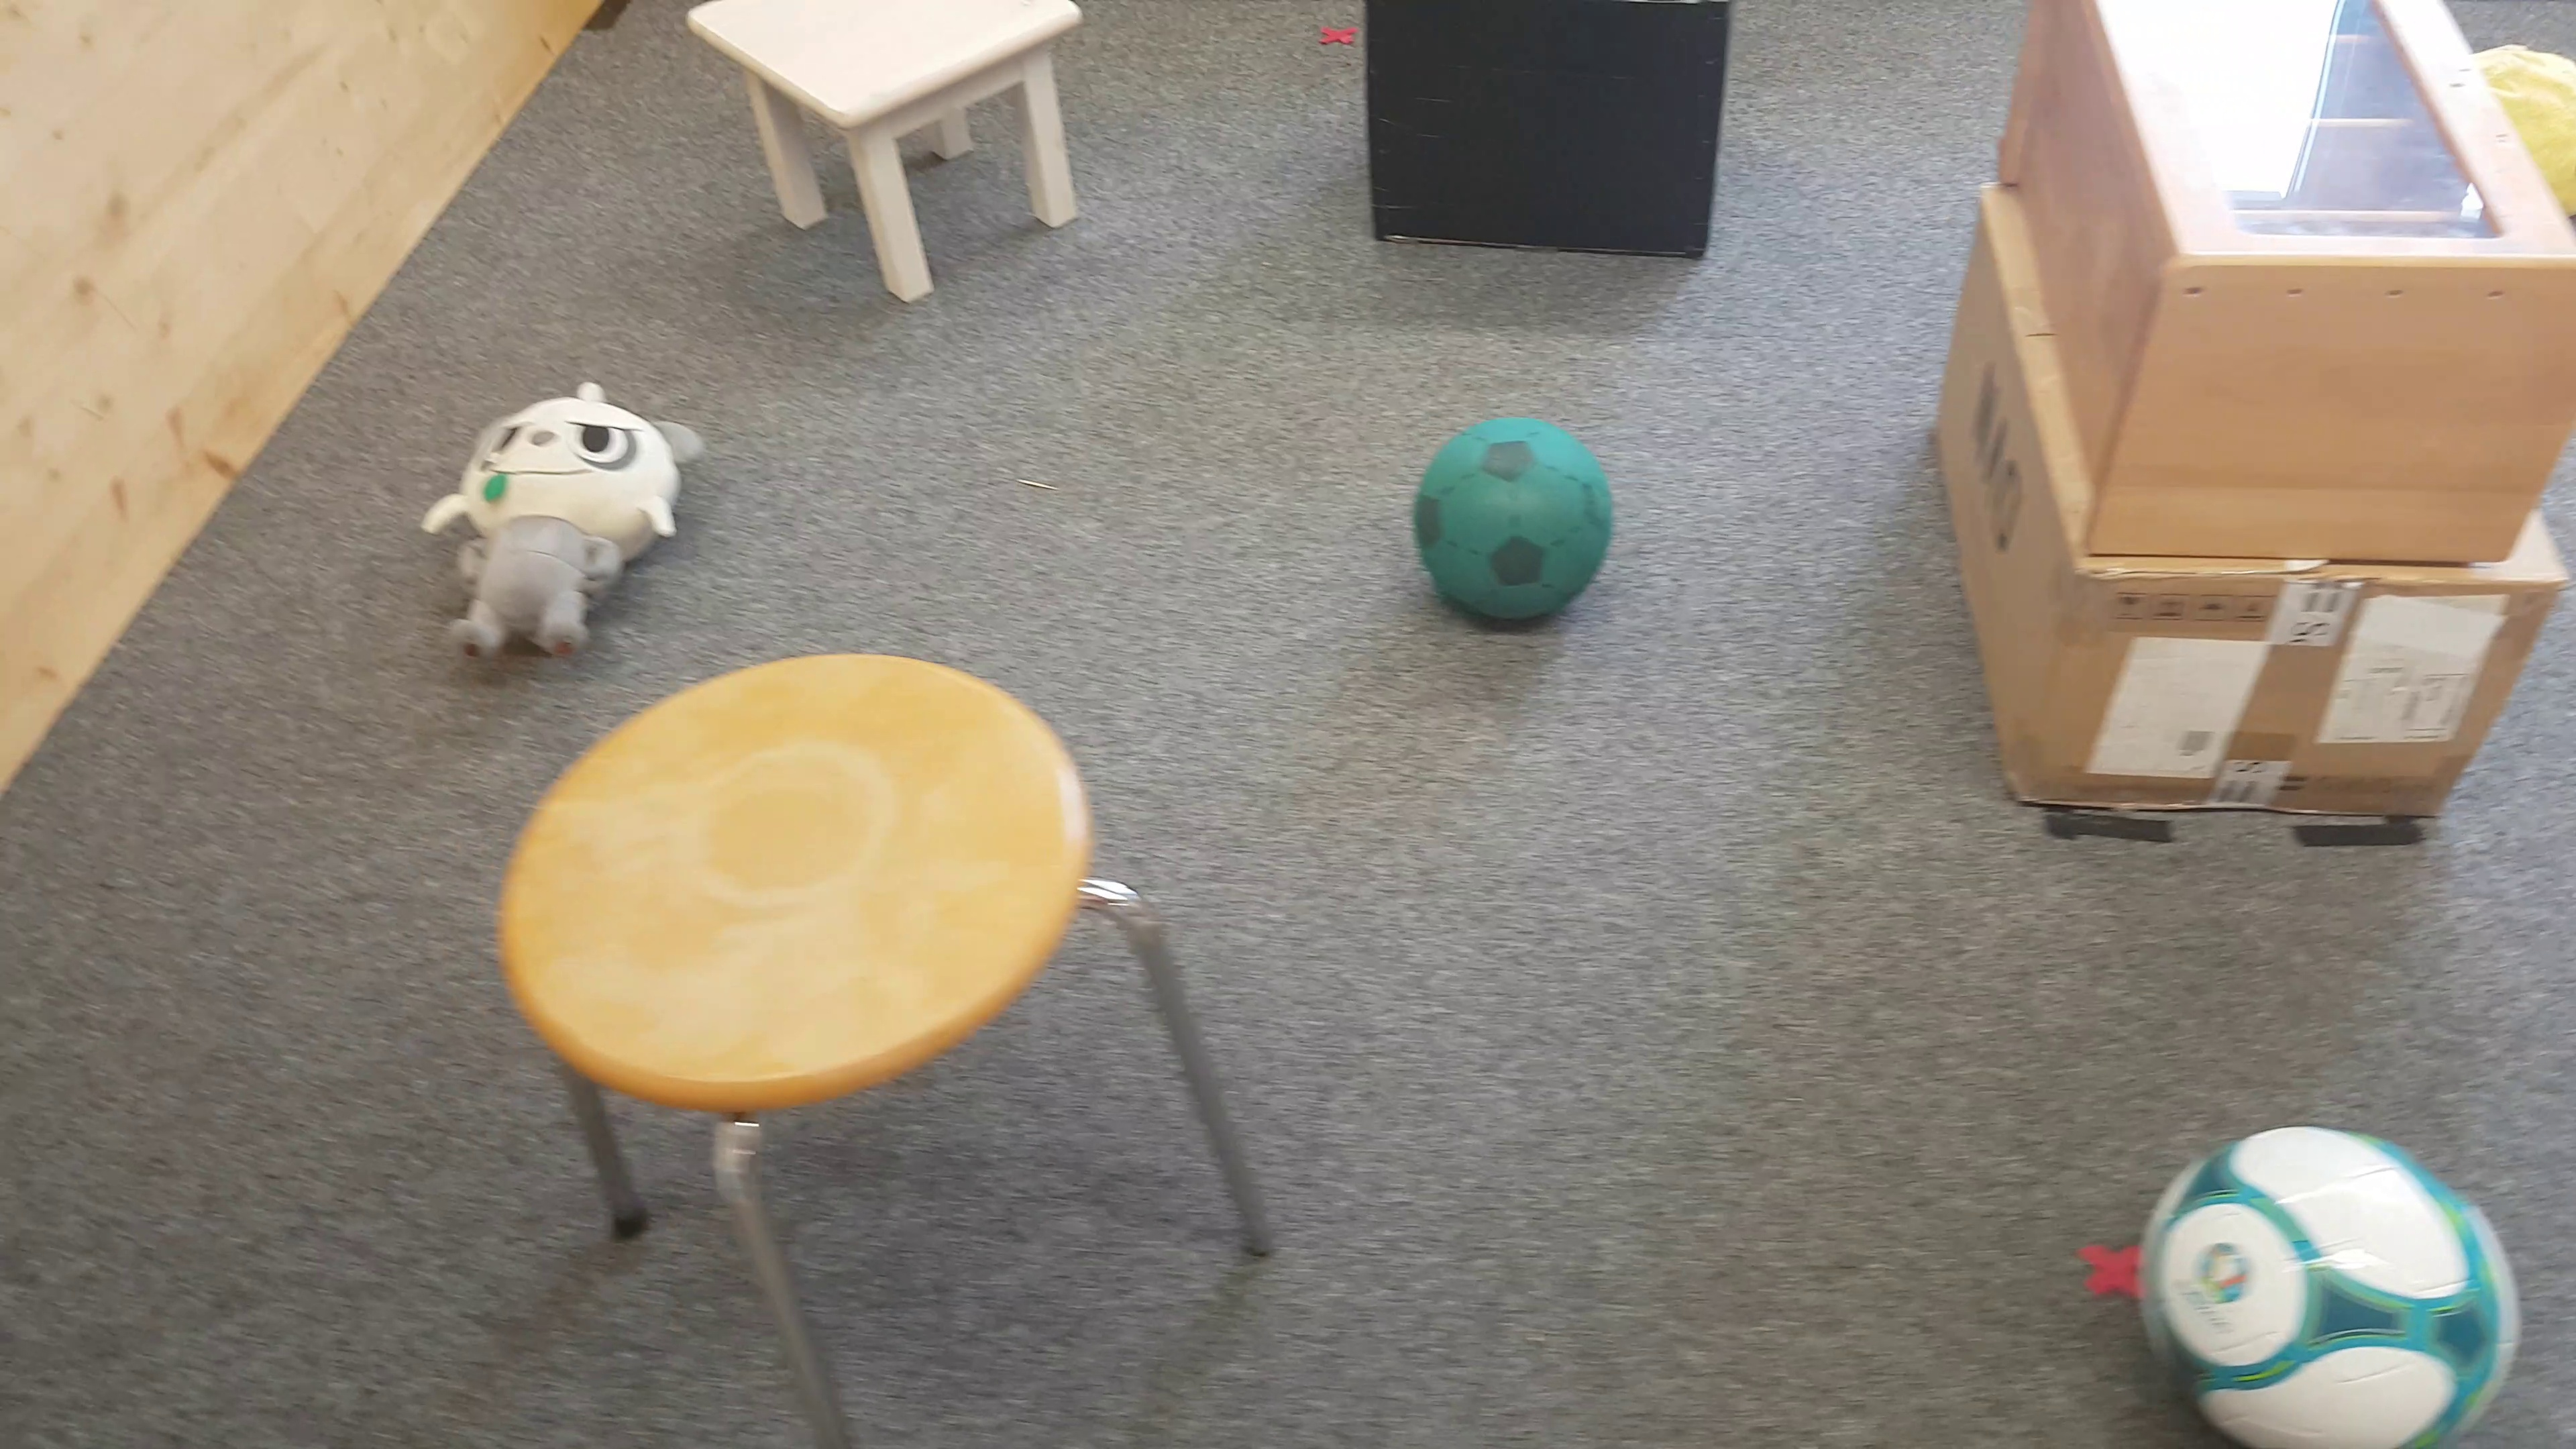grasp: (425, 380, 708, 667), (2507, 44, 2571, 134)
kick: (2134, 1118, 2521, 1449), (1414, 416, 1614, 633)
push: (1364, 0, 1736, 262)
